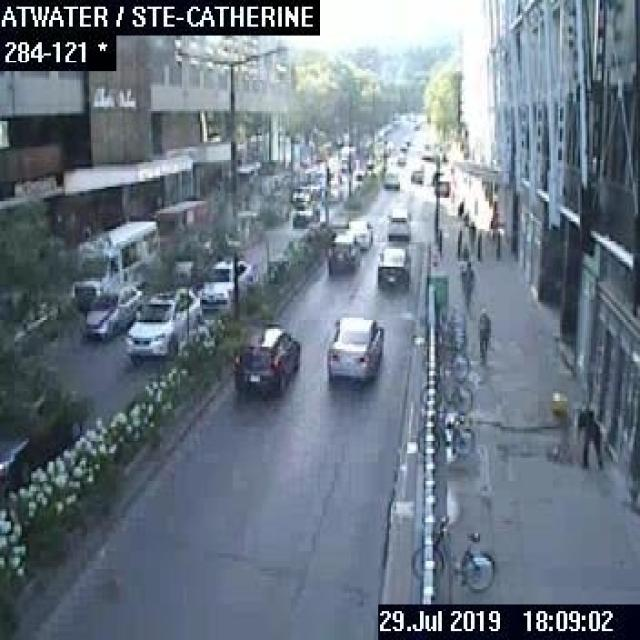bus: (71, 220, 159, 306), (154, 198, 206, 237)
pedestrian: (572, 402, 604, 471), (460, 260, 474, 306), (477, 306, 489, 356), (467, 220, 475, 252)
vehicle: (229, 320, 300, 400), (124, 289, 199, 363), (324, 311, 382, 387), (79, 284, 142, 338), (197, 256, 254, 308), (325, 232, 359, 274), (375, 244, 407, 286), (290, 197, 318, 227), (386, 202, 408, 238), (346, 216, 371, 246), (382, 166, 399, 187), (433, 175, 449, 197), (290, 185, 310, 199), (409, 166, 423, 182)
